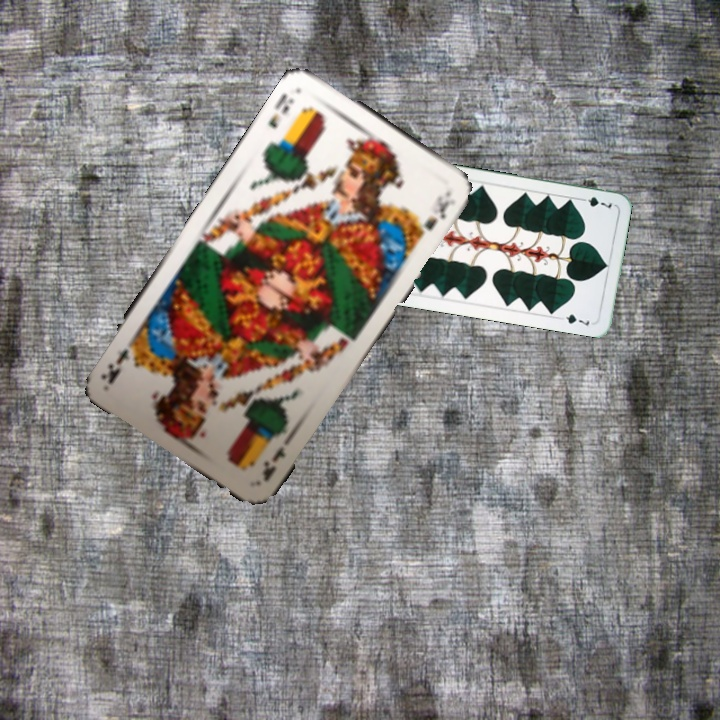EK: (258, 433, 296, 484), (264, 89, 297, 131)
G7: (575, 193, 615, 211)
